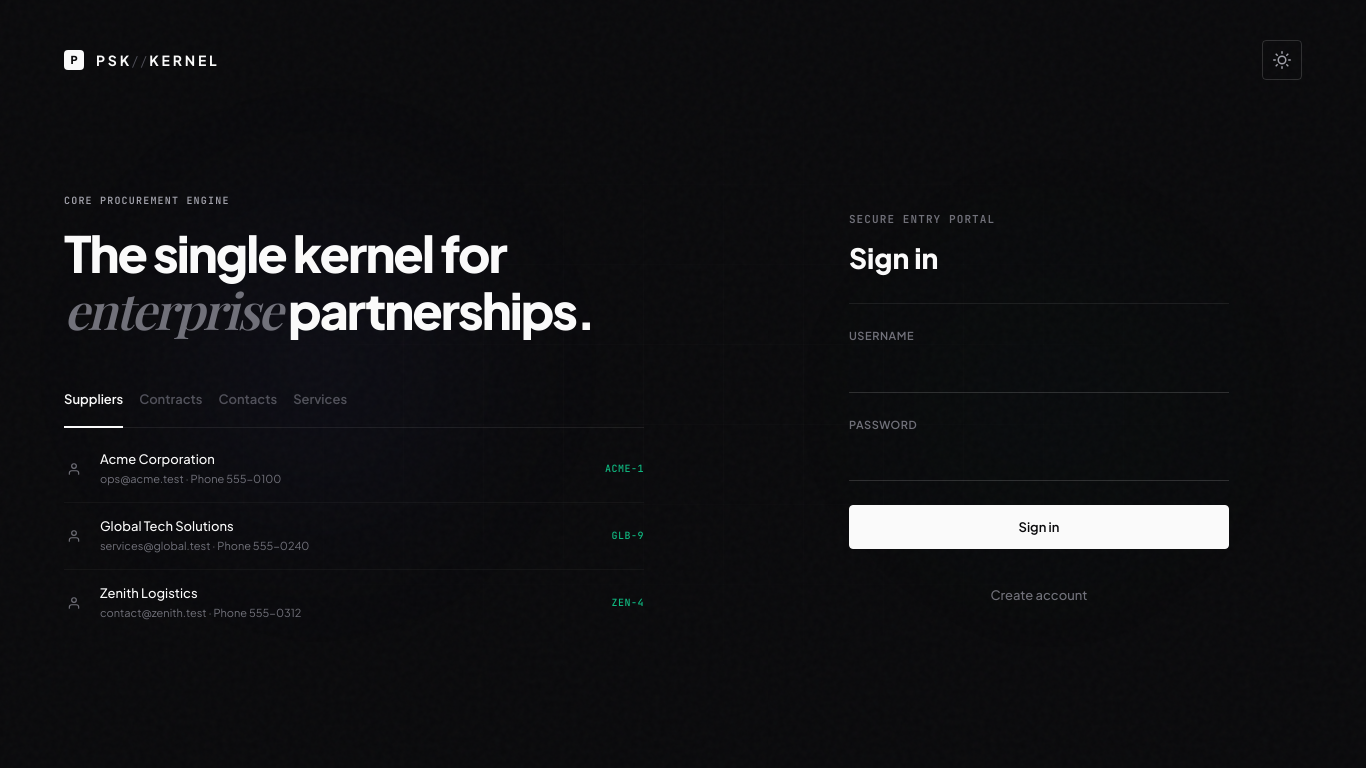
Test: App › signs in, stores the session, and renders dashboard resources
In the field labelled "Username": (1039, 373) 849,353 -> 1229,393, type "ada"
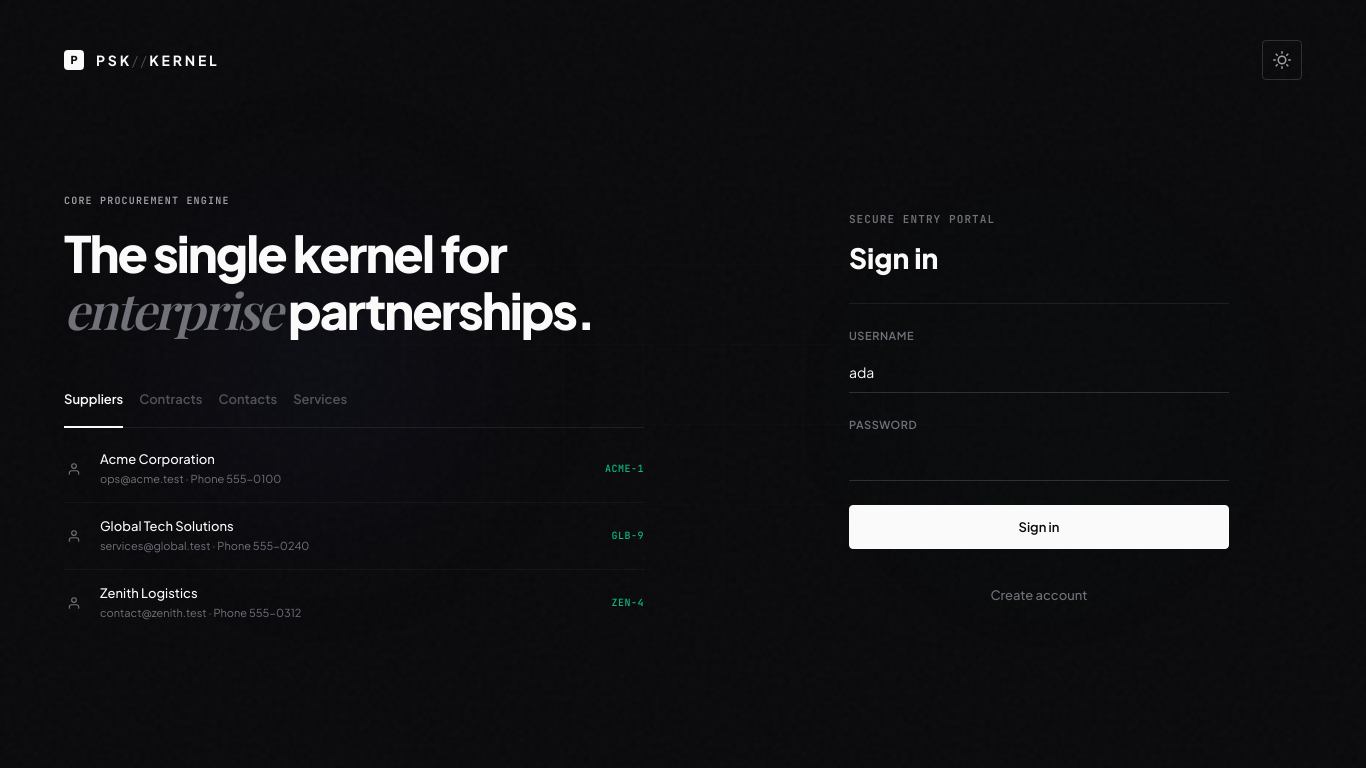
In the password field labelled "Password": (1039, 461) 849,441 -> 1229,481, type "secret"
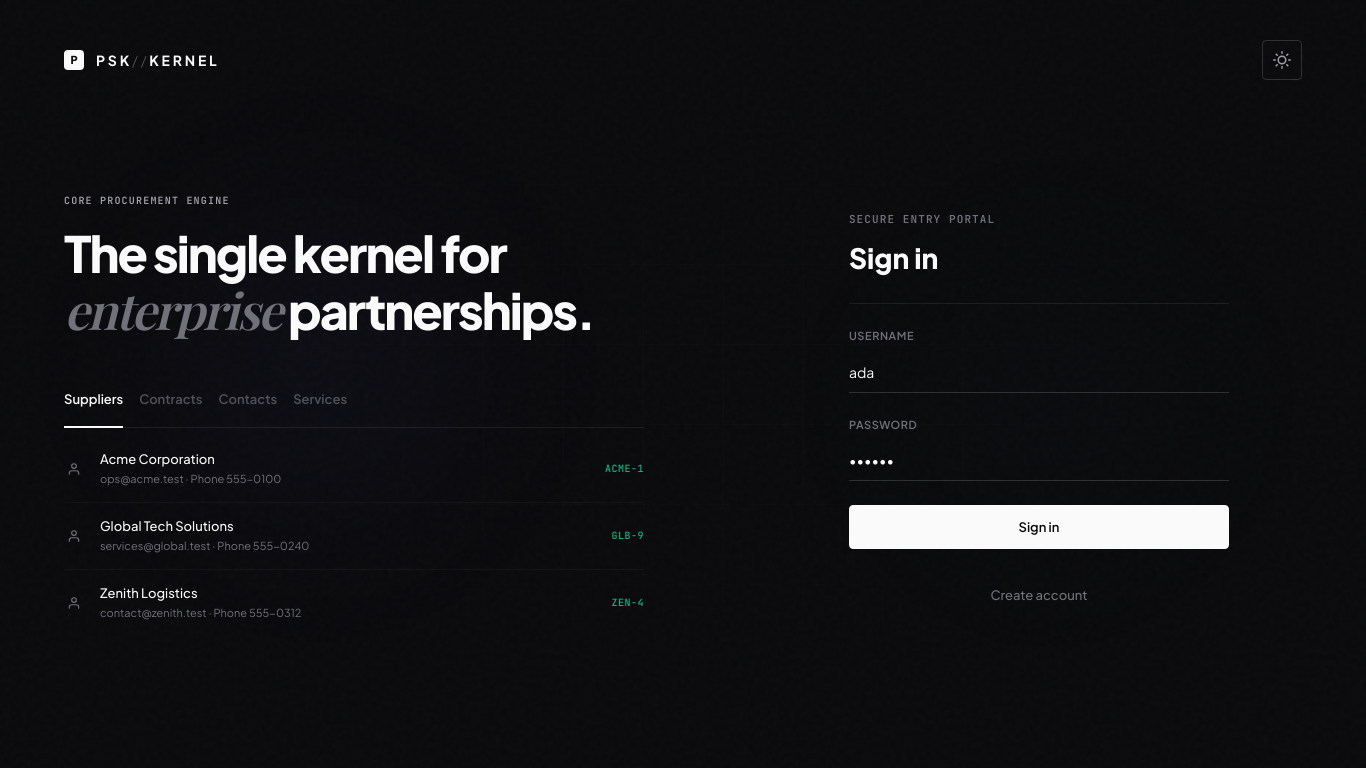
Click the button "Sign in": (1039, 527) 849,505 -> 1229,549
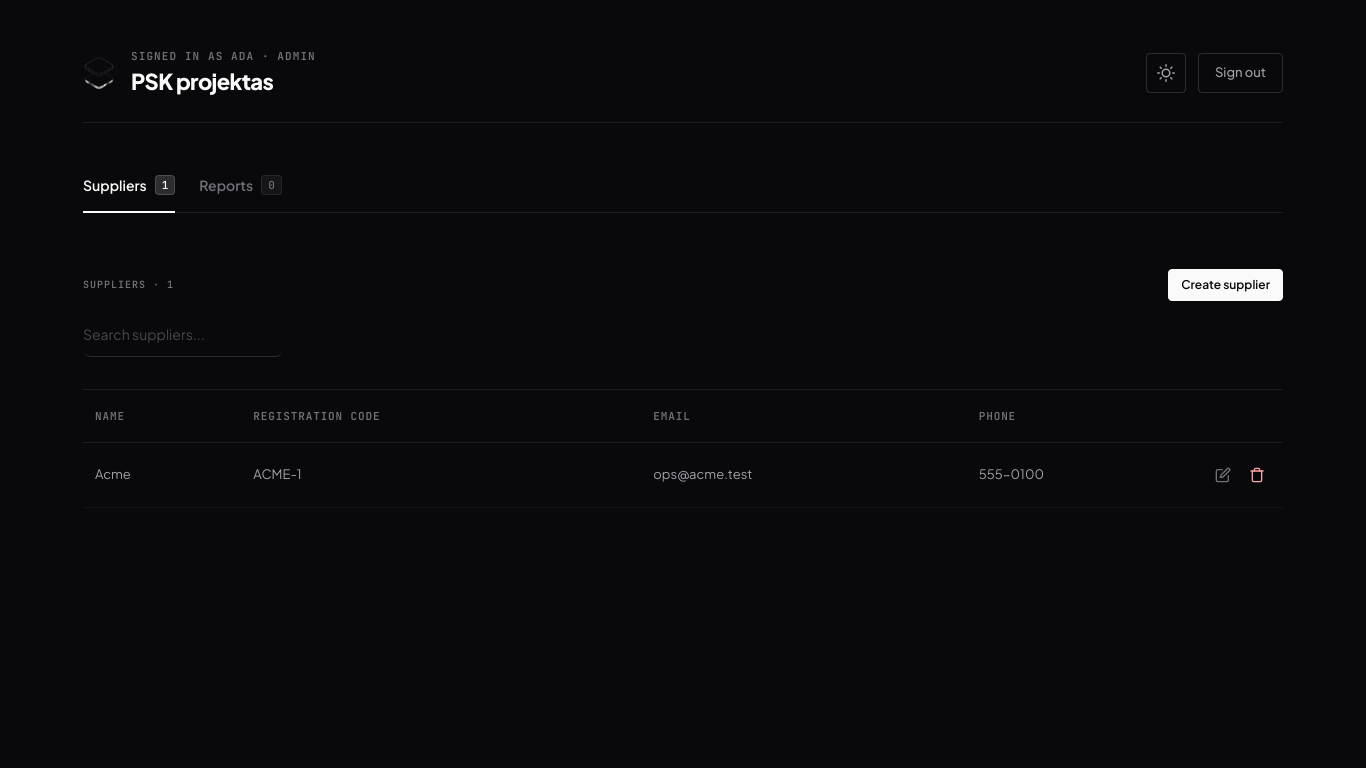
expect the text "Signed in as ada · ADMIN" is shown: met, box 131,48 -> 316,64
expect the text "Suppliers · 1" is shown: met, box 83,277 -> 174,292
expect the button "Create supplier" is shown: met, box 1168,268 -> 1283,300
